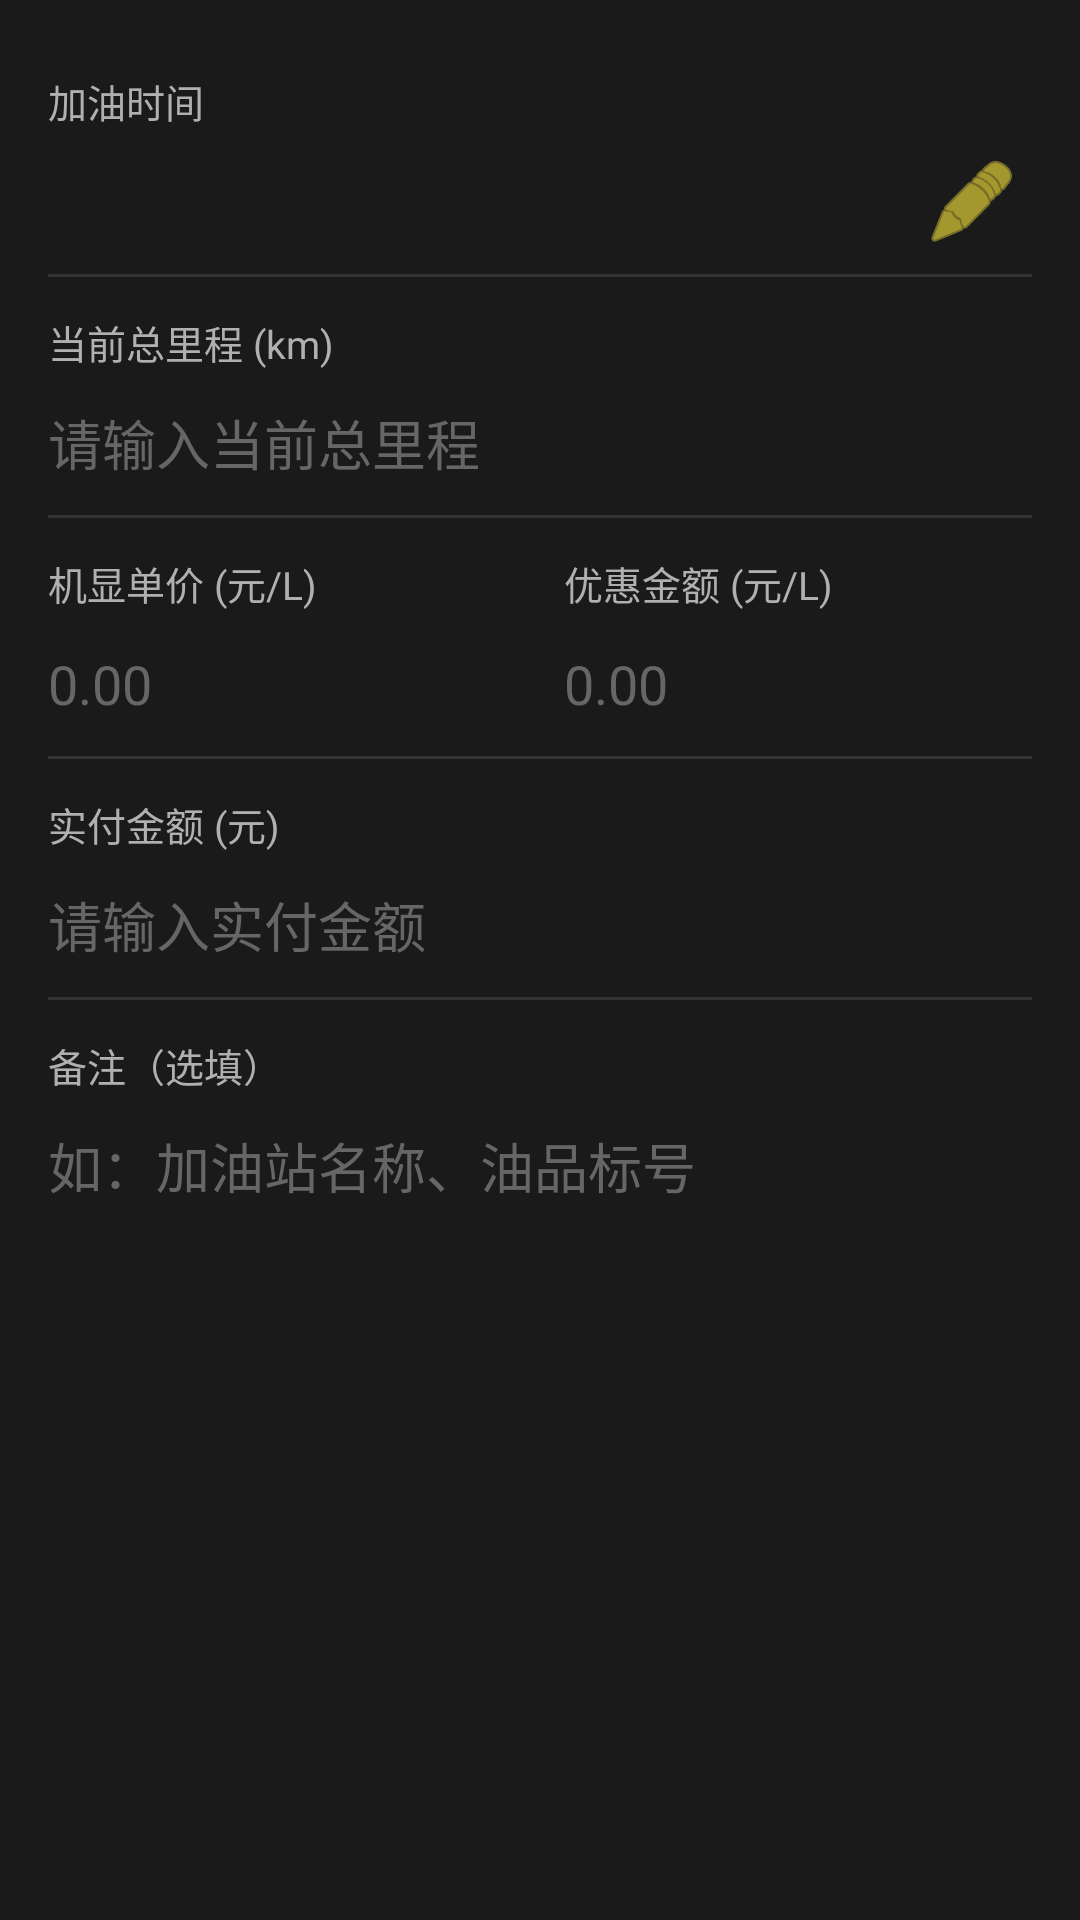

Named icons in this screenshot (1080x1920) and their bounding boxes, (x1=x1, y1=y1, x2=x2, y2=y2):
edit: (x1=931, y1=161, x2=1012, y2=242)
